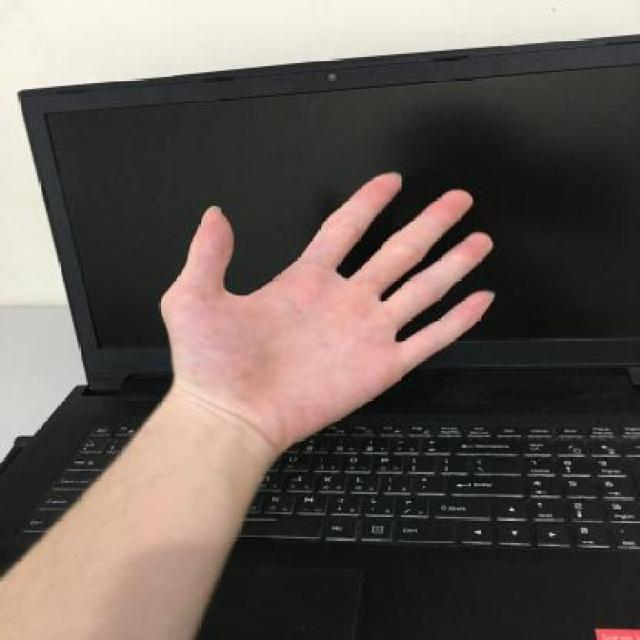bare_hand: (147, 160, 510, 460)
